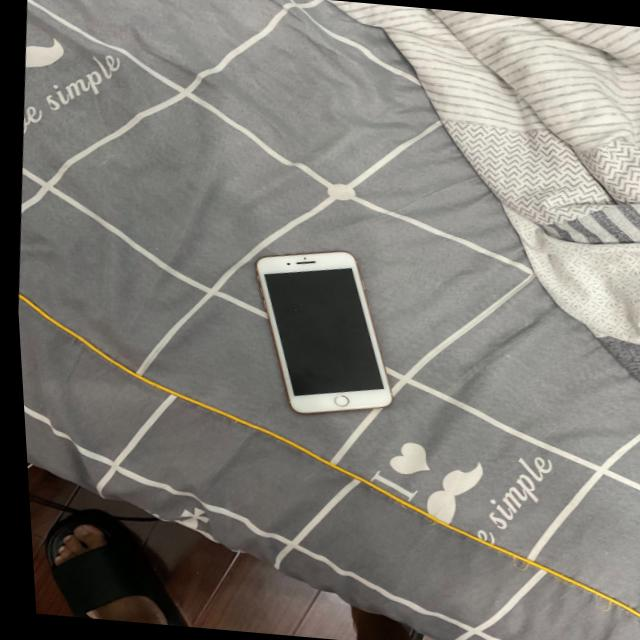Smartphone: (252, 251, 387, 413)
